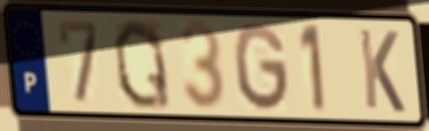1: (297, 22, 329, 117)
3: (178, 16, 226, 115)
7: (55, 18, 102, 108)
G: (230, 19, 292, 115)
K: (355, 25, 408, 116)
Q: (110, 15, 174, 112)
